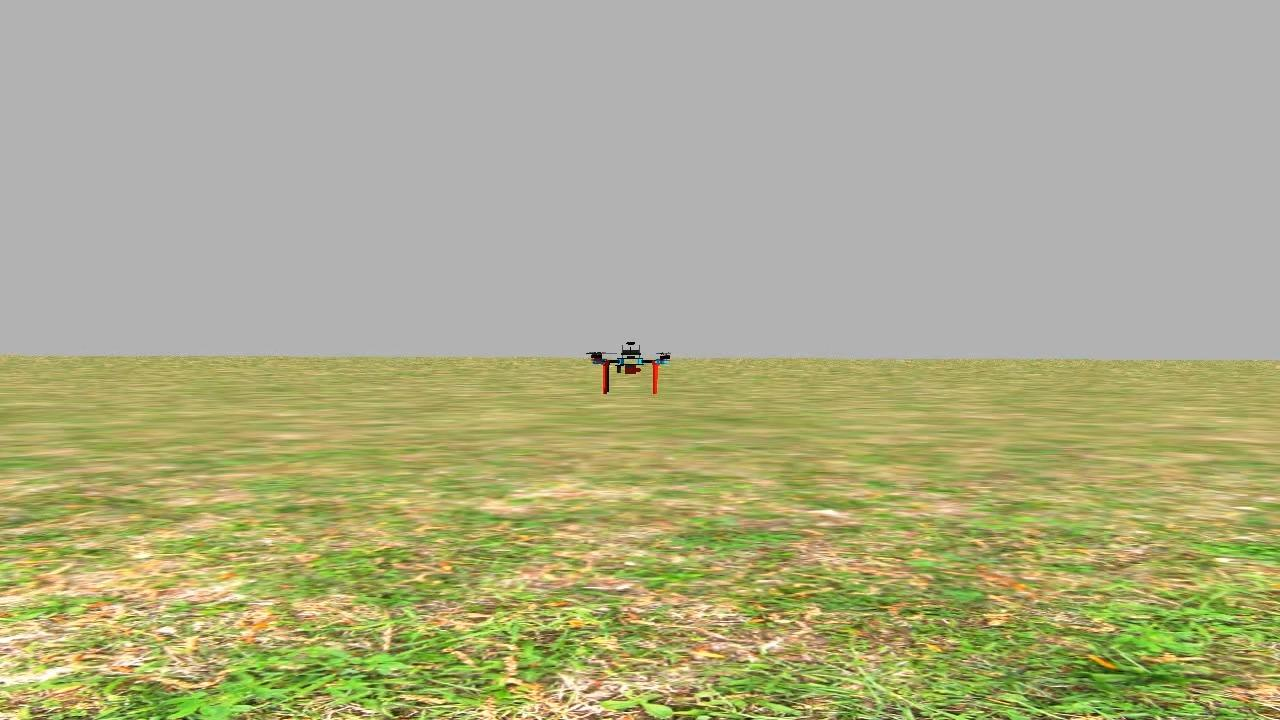UAV: (584, 334, 678, 404)
